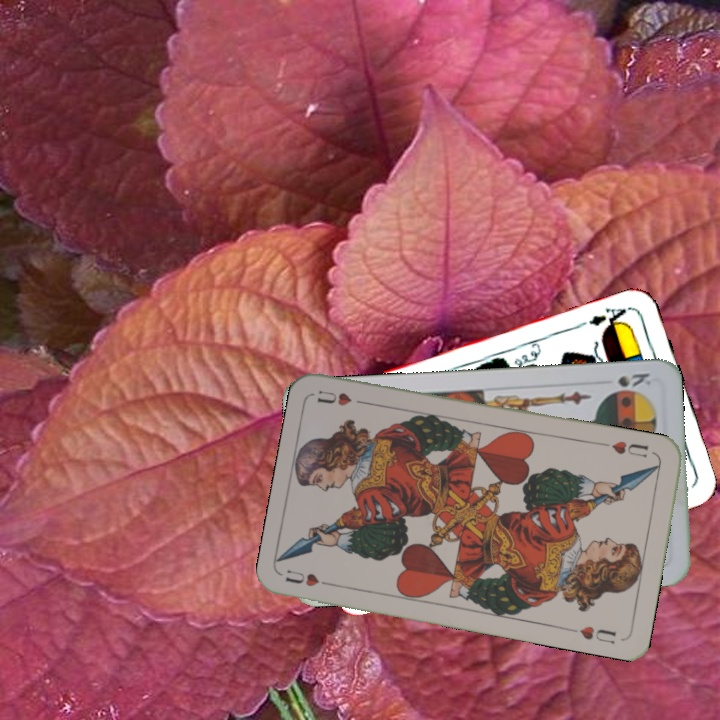EA: (585, 302, 633, 333)
HU: (281, 565, 339, 590), (608, 436, 651, 460)
SK: (613, 369, 654, 390)
